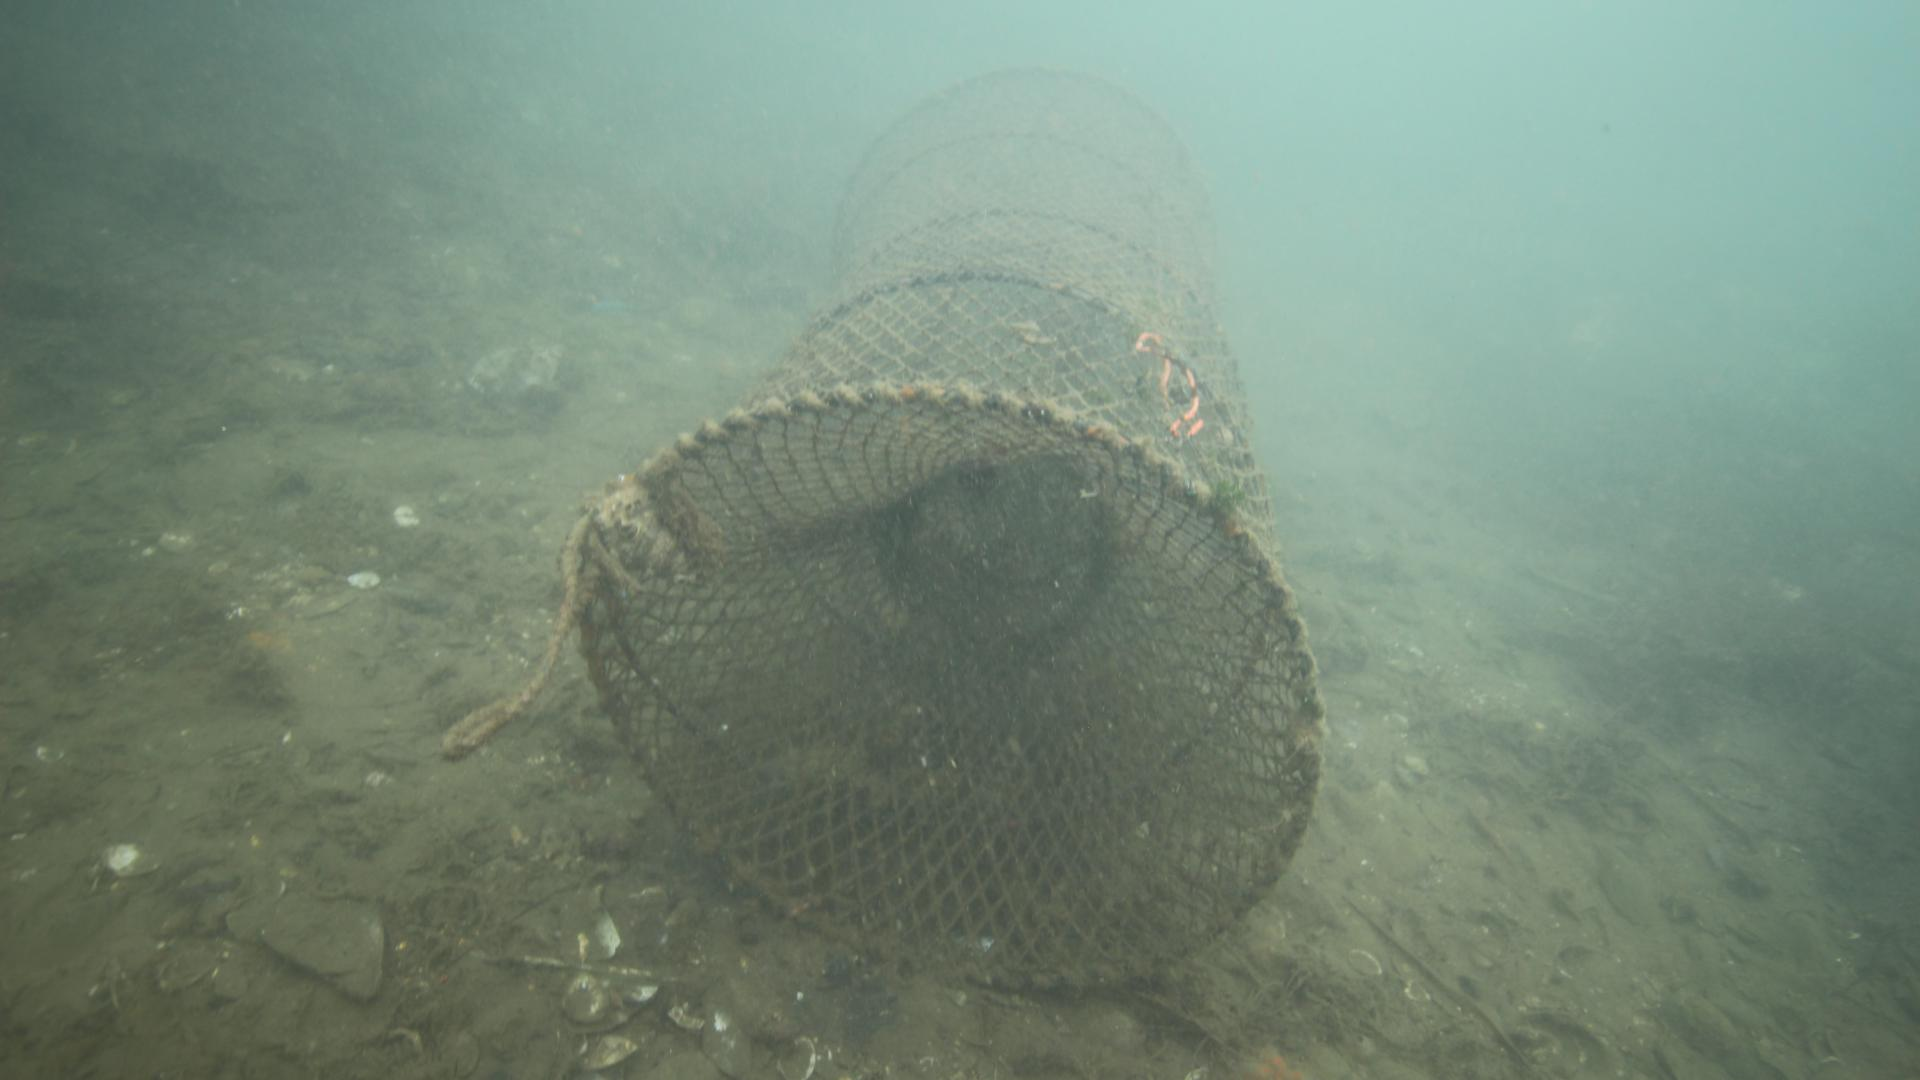bundle of ropes: (434, 592, 572, 762)
spring fish trap: (567, 65, 1324, 1002)
